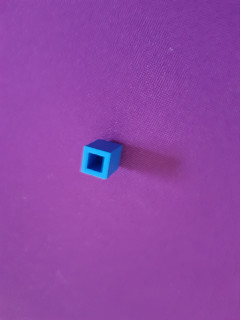1x1 blue: (76, 135, 125, 183)
